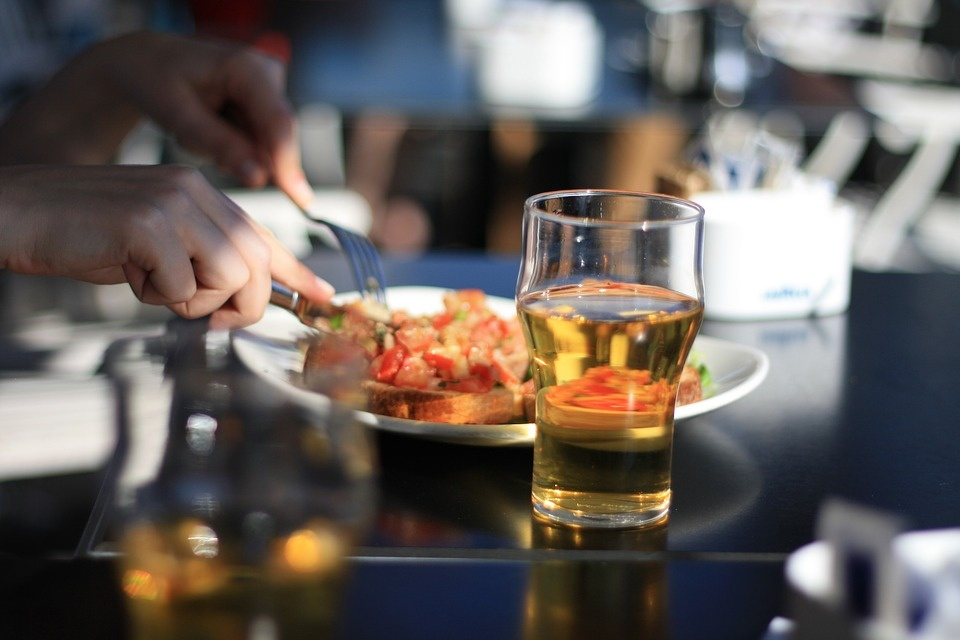glassBeer: (515, 194, 719, 525)
